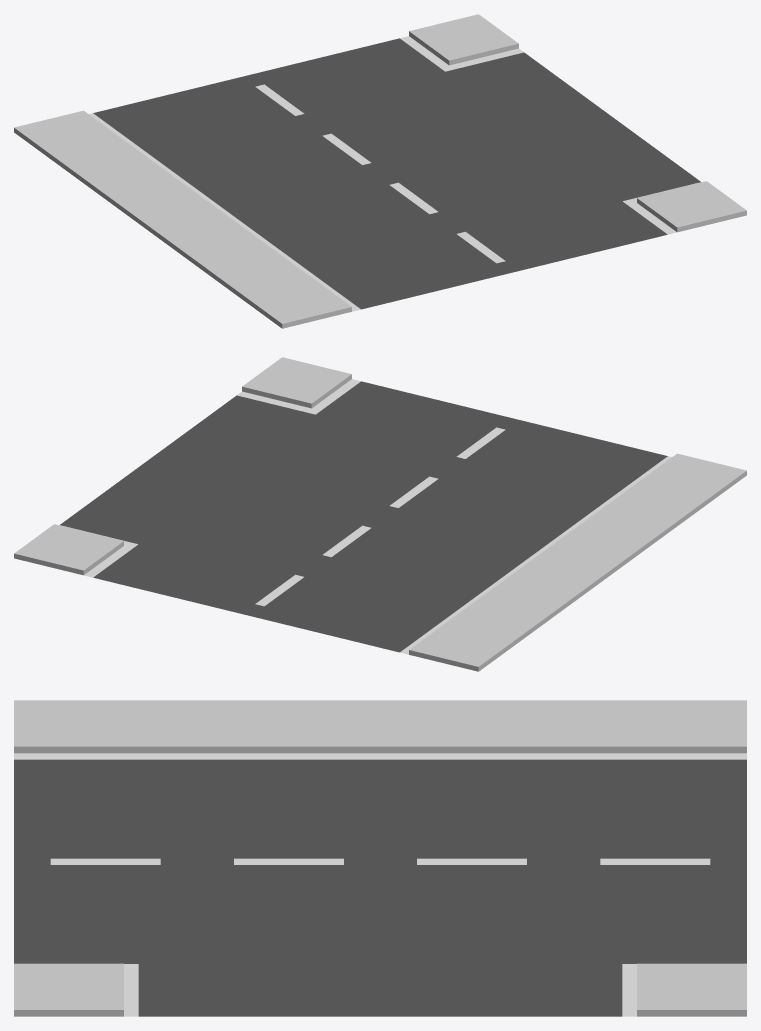
The model's file is road-lane-02.glb.
3 views of the same model, one above another, from view 1: azimuth 30°, elevation 25°; view 2: azimuth 150°, elevation 25°; view 3: azimuth 270°, elevation 25° (orthographic). The views are drawn at different scales.
Parts seen in each view (by area): view 1: model; view 2: model; view 3: model.
Part boxes in pixels (box(x1,y1,x2,y2)): model: box(14, 14, 746, 328); model: box(14, 357, 746, 671); model: box(14, 700, 746, 1016).
Bounding box in the file's own units: 20 × 0.2 × 20.
1 material, 1 textured.
